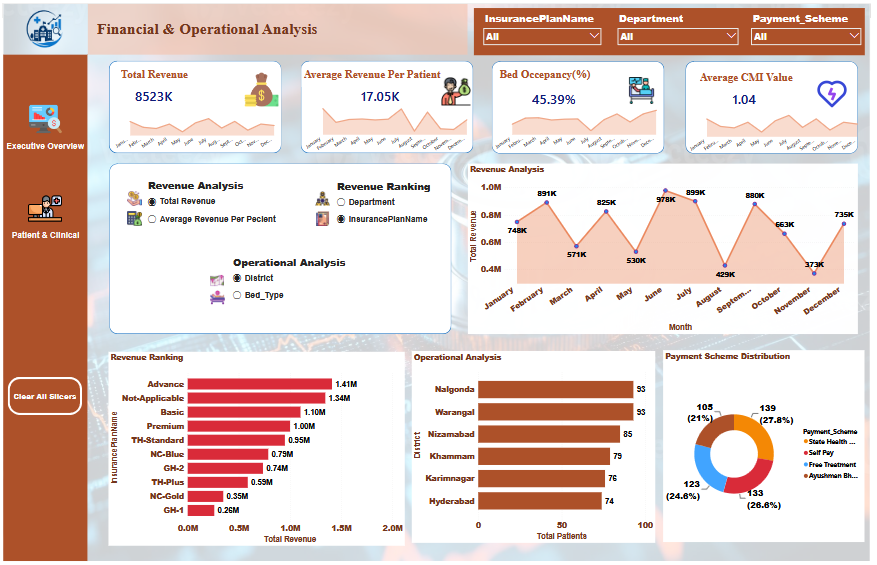

The dashboard page shown, as its layout file describes it:
{"tool":"powerbi","page":{"name":"Page 3","canvas":[2100,1350],"ordinal":2},"visuals":[{"type":"shape","box":[257.1,387.1,828.6,412.9],"z":0},{"type":"shape","box":[197.5,0,2092.5,122.5],"z":1000},{"type":"shape","box":[0,122.5,197.5,1227.5],"z":2000},{"type":"clusteredBarChart","title":"Revenue Ranking","fields":{"Category":["Government_Hospital_Operations_Dataset_Project.InsurancePlanName"],"Y":["Government_Hospital_Operations_Dataset_Project.Total Revenue"]},"box":[255,842.5,718,470],"z":3000},{"type":"textbox","box":[215,32.5,557.5,52.5],"z":4000},{"type":"donutChart","title":"Payment Scheme Distribution","fields":{"Category":["Government_Hospital_Operations_Dataset_Project.Payment_Scheme"],"Y":["Government_Hospital_Operations_Dataset_Project.Total Patients"]},"box":[1598.6,838.6,488.3,465],"z":5000},{"type":"areaChart","title":"Revenue Analysis","fields":{"Y":["Government_Hospital_Operations_Dataset_Project.Total Revenue"],"Category":["Government_Hospital_Operations_Dataset_Project.Date.Variation.Date Hierarchy.Month"]},"box":[1125.7,387.1,945.7,412.9],"z":6000},{"type":"slicer","fields":{"Values":["Government_Hospital_Operations_Dataset_Project.InsurancePlanName"]},"box":[8,301,179,105],"z":7000},{"type":"slicer","fields":{"Values":["Government_Hospital_Operations_Dataset_Project.Department"]},"box":[8,187,179,117],"z":8000},{"type":"slicer","fields":{"Values":["Government_Hospital_Operations_Dataset_Project.Payment_Scheme"]},"box":[8,415,179,74],"z":9000},{"type":"shape","box":[256,138,418,224],"z":10000},{"type":"shape","box":[1653.1,139,418,224],"z":11000},{"type":"shape","box":[1183.5,139.2,418,224],"z":12000},{"type":"shape","box":[720.5,138,418,224],"z":13000},{"type":"textbox","box":[722.5,151.4,350,50],"z":14000},{"type":"textbox","box":[1682.5,157.5,246.7,50],"z":15000},{"type":"textbox","box":[1198,151,260,42],"z":16000},{"type":"textbox","box":[280,150,186,57],"z":17000},{"type":"cardVisual","fields":{"Data":["Government_Hospital_Operations_Dataset_Project.Total Revenue"]},"box":[290,186,166,70],"z":18000},{"type":"cardVisual","fields":{"Data":["Government_Hospital_Operations_Dataset_Project.Average CMI value"]},"box":[1737.5,192.5,132,70],"z":19000},{"type":"cardVisual","fields":{"Data":["Government_Hospital_Operations_Dataset_Project.Beds Occepancy (%)"]},"box":[1252,195,166,66],"z":20000},{"type":"cardVisual","fields":{"Data":["Government_Hospital_Operations_Dataset_Project.Average Revenue Per Pecient"]},"box":[837.5,185,160,71.7],"z":21000},{"type":"areaChart","fields":{"Category":["Government_Hospital_Operations_Dataset_Project.Date.Variation.Date Hierarchy.Month"],"Y":["Government_Hospital_Operations_Dataset_Project.Average CMI value"]},"box":[1652.5,241.2,435,128.3],"z":22000},{"type":"areaChart","fields":{"Category":["Government_Hospital_Operations_Dataset_Project.Date.Variation.Date Hierarchy.Month"],"Y":["Government_Hospital_Operations_Dataset_Project.Average CMI value"]},"box":[256,252,418,110],"z":23000},{"type":"areaChart","fields":{"Category":["Government_Hospital_Operations_Dataset_Project.Date.Variation.Date Hierarchy.Month"],"Y":["Government_Hospital_Operations_Dataset_Project.Average Revenue Per Pecient"]},"box":[722.5,228.3,418,140],"z":24000},{"type":"areaChart","fields":{"Category":["Government_Hospital_Operations_Dataset_Project.Date.Variation.Date Hierarchy.Month"],"Y":["Government_Hospital_Operations_Dataset_Project.Beds Occepancy (%)"]},"box":[1182,236,417.8,128.9],"z":25000},{"type":"barChart","title":"Operational Analysis","fields":{"Category":["Government_Hospital_Operations_Dataset_Project.District"],"Y":["Government_Hospital_Operations_Dataset_Project.Total Patients"]},"box":[990,841.4,590,465],"z":26000},{"type":"textbox","box":[41,127,114,46],"z":27000},{"type":"shape","box":[0,167,196,18],"z":28000},{"type":"actionButton","box":[10,897.5,180,92],"z":29000},{"type":"actionButton","box":[7.5,1202.5,180,92],"z":30000},{"type":"actionButton","box":[10,727.5,180,92],"z":31000},{"type":"image","box":[0,136.7,41.1,30],"z":32000},{"type":"image","box":[10,0,182.9,100],"z":33000},{"type":"image","box":[1055.4,175.7,84.3,71.4],"z":34000},{"type":"image","box":[1956.1,179.8,102.9,78.6],"z":35000},{"type":"image","box":[1513.2,165.5,67.1,87.1],"z":36000},{"type":"image","box":[584.3,157.1,84.3,98.6],"z":37000},{"type":"slicer","fields":{"Values":["Revenue Analysis.Revenue Analysis"]},"box":[337.7,418.5,360,143.3],"z":38000},{"type":"slicer","fields":{"Values":["Revenue Ranking.Revenue Ranking"]},"box":[795.7,418.6,277.1,141.4],"z":39000},{"type":"slicer","fields":{"Values":["Operational Analysis.Operational Analysis"]},"box":[544.3,602.9,306.7,136.7],"z":40000},{"type":"image","box":[300,453.8,37,36],"z":41000},{"type":"image","box":[300,501.5,37.7,36.9],"z":42000},{"type":"image","box":[748.6,454.3,47.7,36.2],"z":43000},{"type":"image","box":[750,502.9,45.3,35.9],"z":44000},{"type":"image","box":[498.6,652.9,37,36],"z":45000},{"type":"image","box":[500,692.9,37,36],"z":46000}]}

Visuals, with their boxes in screenshot pixels (x1, y1, x2, y2), scaled from the page's 2100x1350 canvas onto the 877x565 screenshot:
shape: {"x1": 107, "y1": 162, "x2": 453, "y2": 335}
shape: {"x1": 82, "y1": 0, "x2": 876, "y2": 51}
shape: {"x1": 0, "y1": 51, "x2": 82, "y2": 564}
"Revenue Ranking" clusteredBarChart: {"x1": 106, "y1": 353, "x2": 406, "y2": 549}
textbox: {"x1": 90, "y1": 14, "x2": 323, "y2": 36}
"Payment Scheme Distribution" donutChart: {"x1": 668, "y1": 351, "x2": 872, "y2": 546}
"Revenue Analysis" areaChart: {"x1": 470, "y1": 162, "x2": 865, "y2": 335}
slicer - Government_Hospital_Operations_Dataset_Project.InsurancePlanName: {"x1": 3, "y1": 126, "x2": 78, "y2": 170}
slicer - Government_Hospital_Operations_Dataset_Project.Department: {"x1": 3, "y1": 78, "x2": 78, "y2": 127}
slicer - Government_Hospital_Operations_Dataset_Project.Payment_Scheme: {"x1": 3, "y1": 174, "x2": 78, "y2": 205}
shape: {"x1": 107, "y1": 58, "x2": 281, "y2": 152}
shape: {"x1": 690, "y1": 58, "x2": 865, "y2": 152}
shape: {"x1": 494, "y1": 58, "x2": 669, "y2": 152}
shape: {"x1": 301, "y1": 58, "x2": 475, "y2": 152}
textbox: {"x1": 302, "y1": 63, "x2": 448, "y2": 84}
textbox: {"x1": 703, "y1": 66, "x2": 806, "y2": 87}
textbox: {"x1": 500, "y1": 63, "x2": 609, "y2": 81}
textbox: {"x1": 117, "y1": 63, "x2": 195, "y2": 87}
cardVisual - Government_Hospital_Operations_Dataset_Project.Total Revenue: {"x1": 121, "y1": 78, "x2": 190, "y2": 107}
cardVisual - Government_Hospital_Operations_Dataset_Project.Average CMI value: {"x1": 726, "y1": 81, "x2": 781, "y2": 110}
cardVisual - Government_Hospital_Operations_Dataset_Project.Beds Occepancy (%): {"x1": 523, "y1": 82, "x2": 592, "y2": 109}
cardVisual - Government_Hospital_Operations_Dataset_Project.Average Revenue Per Pecient: {"x1": 350, "y1": 77, "x2": 417, "y2": 107}
areaChart - Government_Hospital_Operations_Dataset_Project.Date.Variation.Date Hierarchy.Month x Government_Hospital_Operations_Dataset_Project.Average CMI value: {"x1": 690, "y1": 101, "x2": 872, "y2": 155}
areaChart - Government_Hospital_Operations_Dataset_Project.Date.Variation.Date Hierarchy.Month x Government_Hospital_Operations_Dataset_Project.Average CMI value: {"x1": 107, "y1": 105, "x2": 281, "y2": 152}
areaChart - Government_Hospital_Operations_Dataset_Project.Date.Variation.Date Hierarchy.Month x Government_Hospital_Operations_Dataset_Project.Average Revenue Per Pecient: {"x1": 302, "y1": 96, "x2": 476, "y2": 154}
areaChart - Government_Hospital_Operations_Dataset_Project.Date.Variation.Date Hierarchy.Month x Government_Hospital_Operations_Dataset_Project.Beds Occepancy (%): {"x1": 494, "y1": 99, "x2": 668, "y2": 153}
"Operational Analysis" barChart: {"x1": 413, "y1": 352, "x2": 660, "y2": 547}
textbox: {"x1": 17, "y1": 53, "x2": 65, "y2": 72}
shape: {"x1": 0, "y1": 70, "x2": 82, "y2": 77}
actionButton: {"x1": 4, "y1": 376, "x2": 79, "y2": 414}
actionButton: {"x1": 3, "y1": 503, "x2": 78, "y2": 542}
actionButton: {"x1": 4, "y1": 304, "x2": 79, "y2": 343}
image: {"x1": 0, "y1": 57, "x2": 17, "y2": 70}
image: {"x1": 4, "y1": 0, "x2": 81, "y2": 42}
image: {"x1": 441, "y1": 74, "x2": 476, "y2": 103}
image: {"x1": 817, "y1": 75, "x2": 860, "y2": 108}
image: {"x1": 632, "y1": 69, "x2": 660, "y2": 106}
image: {"x1": 244, "y1": 66, "x2": 279, "y2": 107}
slicer - Revenue Analysis.Revenue Analysis: {"x1": 141, "y1": 175, "x2": 291, "y2": 235}
slicer - Revenue Ranking.Revenue Ranking: {"x1": 332, "y1": 175, "x2": 448, "y2": 234}
slicer - Operational Analysis.Operational Analysis: {"x1": 227, "y1": 252, "x2": 355, "y2": 310}
image: {"x1": 125, "y1": 190, "x2": 141, "y2": 205}
image: {"x1": 125, "y1": 210, "x2": 141, "y2": 225}
image: {"x1": 313, "y1": 190, "x2": 333, "y2": 205}
image: {"x1": 313, "y1": 210, "x2": 332, "y2": 225}
image: {"x1": 208, "y1": 273, "x2": 224, "y2": 288}
image: {"x1": 209, "y1": 290, "x2": 224, "y2": 305}
